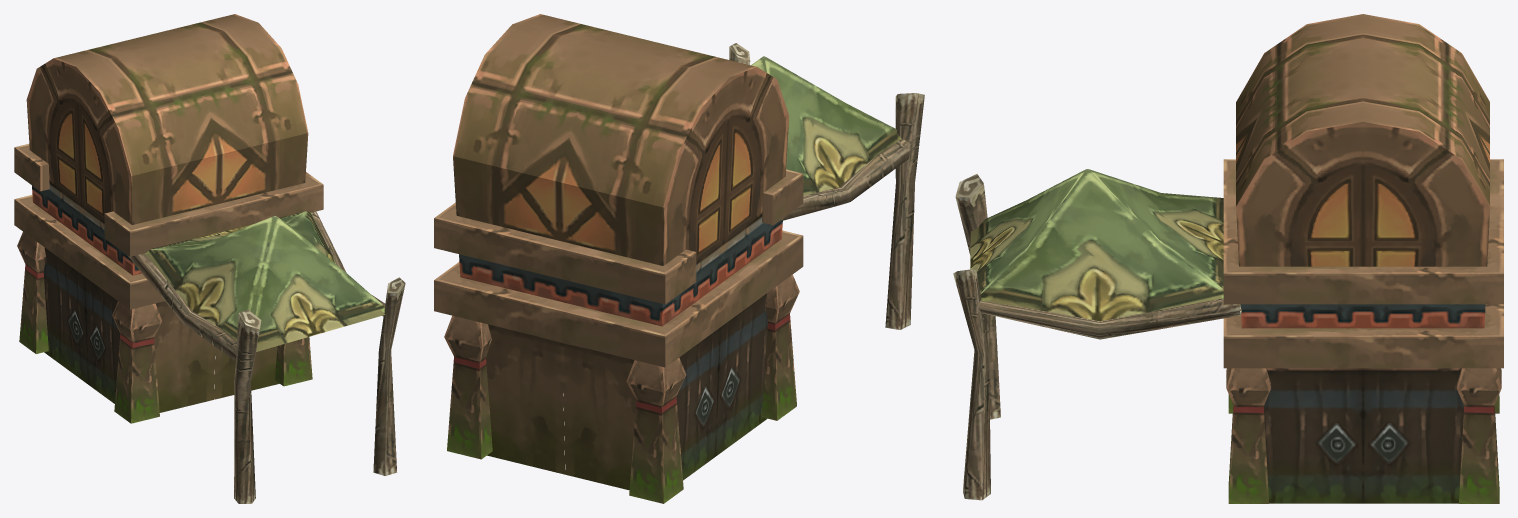
Rendered from Z01_jianzhu_01.FBX.
3 renders of one model, left to right at view 1: azimuth 30°, elevation 25°; view 2: azimuth 150°, elevation 25°; view 3: azimuth 270°, elevation 25°, orthographic. The views are drawn at different scales.
Visible parts, largest first — view 1: 对象27; view 2: 对象27; view 3: 对象27.
Part boxes in pixels (x1=…): 对象27: x1=14, y1=14, x2=405, y2=503; 对象27: x1=434, y1=14, x2=924, y2=503; 对象27: x1=953, y1=14, x2=1503, y2=503.
Bounding box in the file's own units: 200 × 319 × 407.
